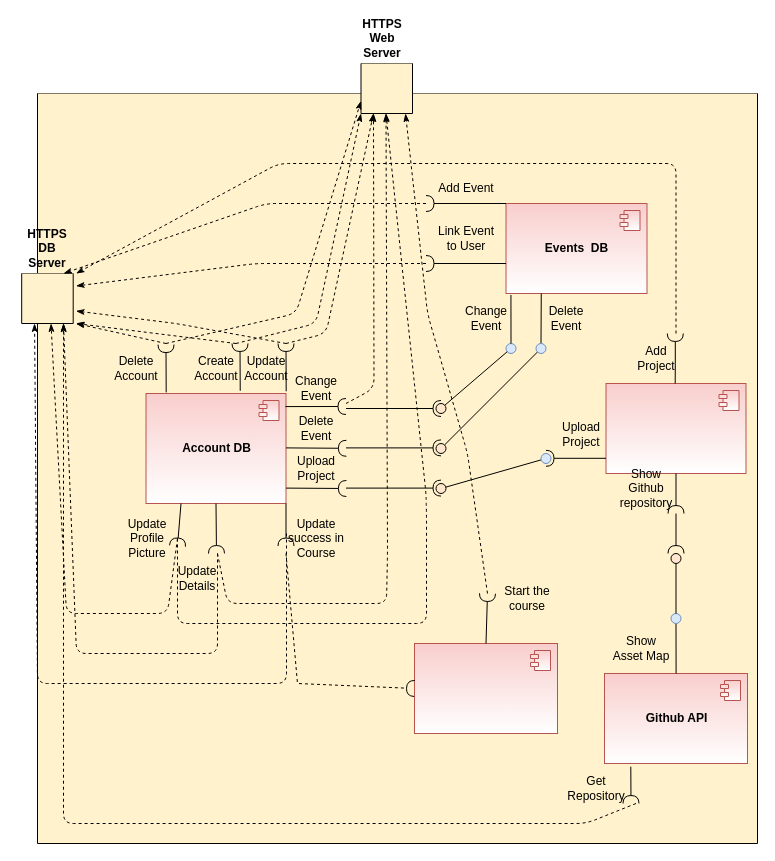
The diagram is 775 pixels wide and 861 high, and some of its shapes have lost their labels. Each missing label, with the centre of its shape:
"Learn to code" goes at [486,688].
"Projects DB" goes at [675,428].
